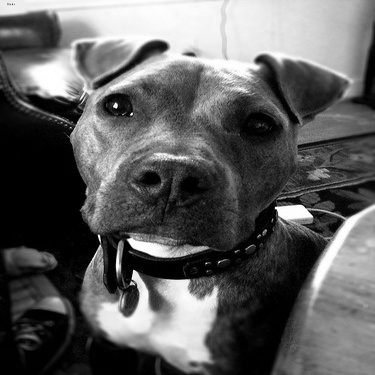dog: (59, 40, 353, 373)
